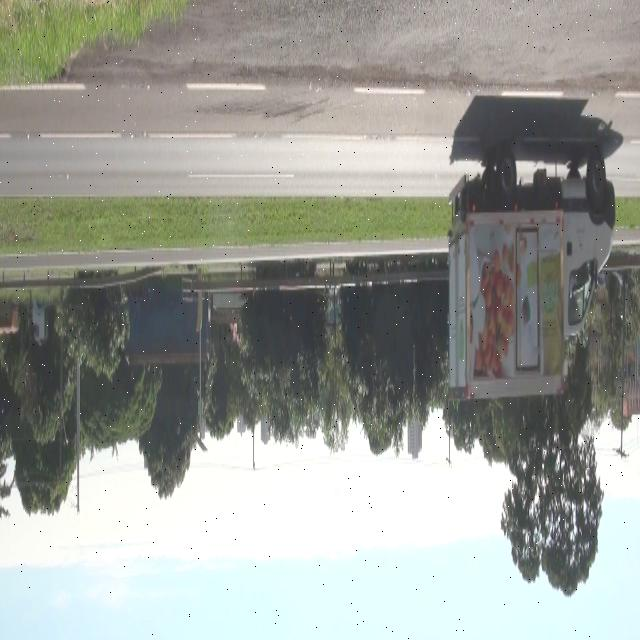-axle: (584, 144, 608, 212), (495, 142, 520, 201)
